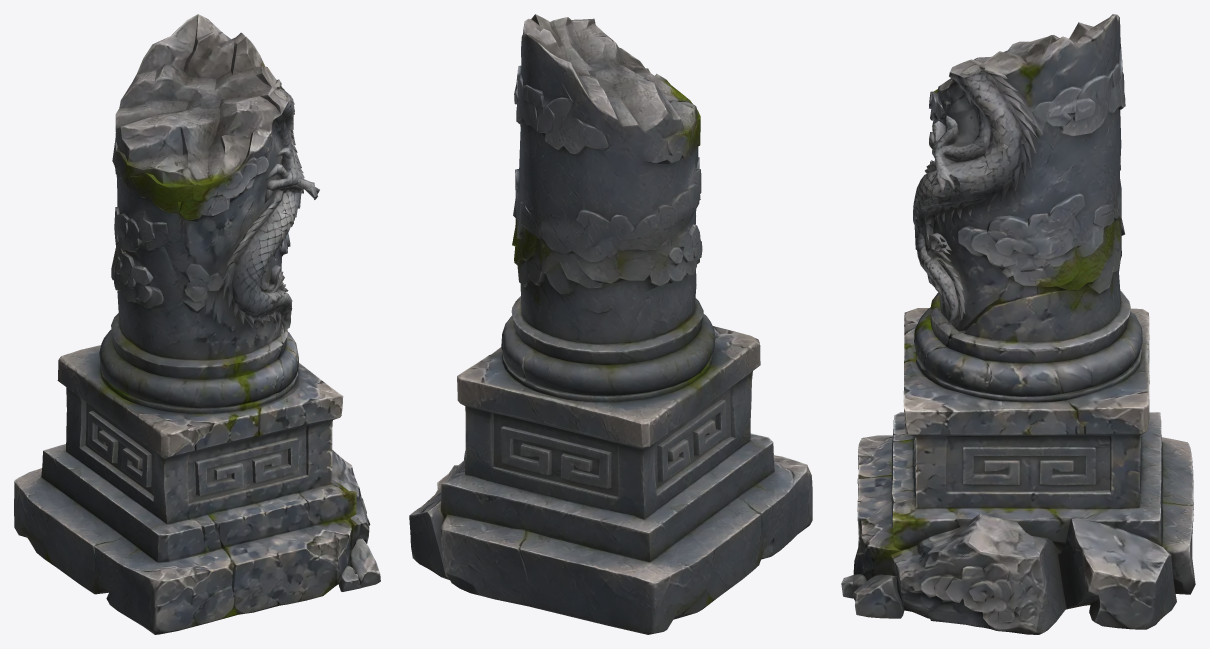
The model's file is pillar_broken.glb.
The picture shows the model from 3 angles, left to right: view 1: azimuth 30°, elevation 25°; view 2: azimuth 150°, elevation 25°; view 3: azimuth 270°, elevation 25°; orthographic projection. The views are drawn at different scales.
Visible parts, largest first — view 1: model; view 2: model; view 3: model.
Boxes of the visible parts, x1,y1,x2,y2 form: model: [14, 14, 380, 634]; model: [409, 14, 812, 634]; model: [841, 14, 1195, 634].
Bounding box in the file's own units: 1.06 × 1.9 × 1.08.
Materials: 1 (1 with a texture image).
